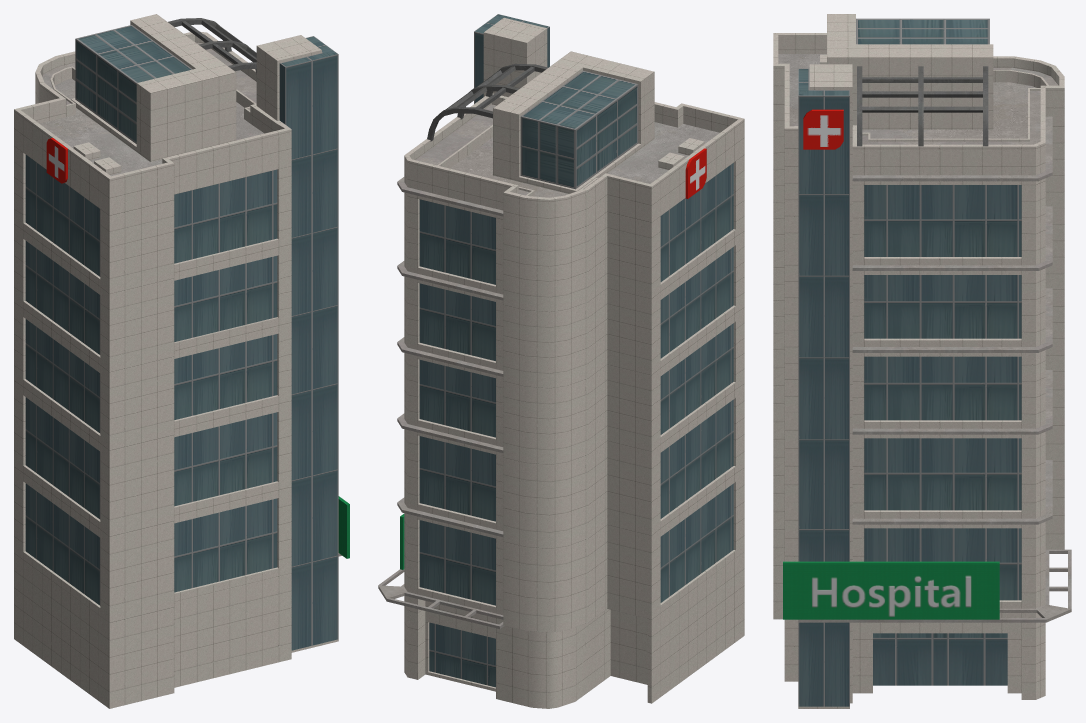
Rendered from store_004_H.FBX.
3 views of the same model, side by side, from view 1: azimuth 30°, elevation 25°; view 2: azimuth 150°, elevation 25°; view 3: azimuth 270°, elevation 25° (orthographic). The views are drawn at different scales.
Parts seen in each view (by area): view 1: store_004_H; view 2: store_004_H; view 3: store_004_H.
Part boxes in pixels (left/top/right/bottom): store_004_H: left=14, top=14, right=349, bottom=708; store_004_H: left=378, top=14, right=744, bottom=708; store_004_H: left=773, top=14, right=1071, bottom=708.
Size of the model in its own units: 9.01 by 20.55 by 9.02.
1 material, 1 textured.
